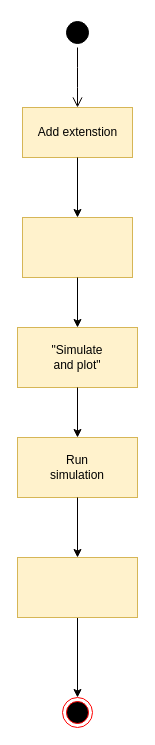
Some shapes in this 155 by 745 pixel diagram are drawn without their labels. Each missing label, with the box of its shape:
Change parameters: (22, 216, 132, 278)
Show scatter plot: (16, 556, 138, 618)
